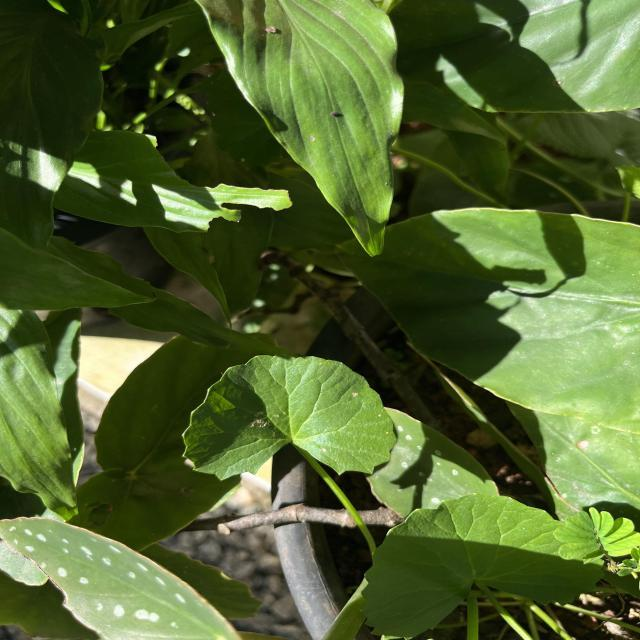Centella asiatica: (354, 491, 608, 640), (177, 350, 400, 484)
